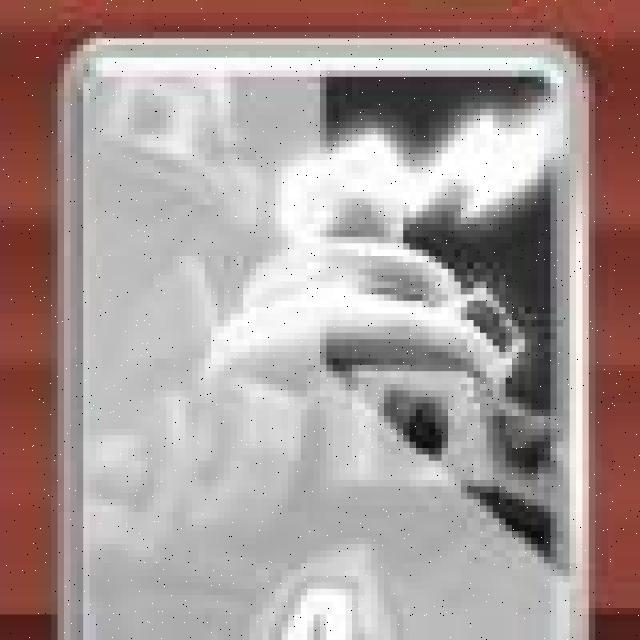Zappies: (76, 51, 600, 640)
